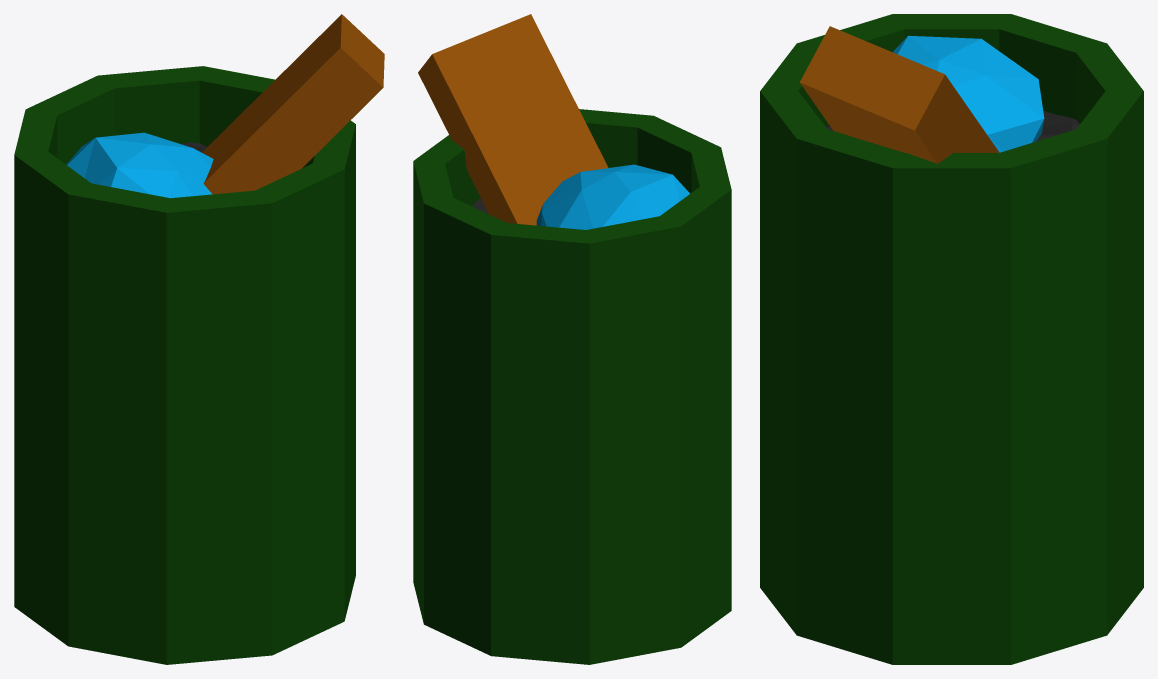
The model's file is GarbageCan.fbx.
3 views of the same model, side by side, from view 1: azimuth 30°, elevation 25°; view 2: azimuth 150°, elevation 25°; view 3: azimuth 270°, elevation 25° (orthographic). The views are drawn at different scales.
Visible parts, largest first — view 1: Can, Cube, Icosphere; view 2: Can, Cube, Icosphere; view 3: Can, Cube, Icosphere, Plane.
Part boxes in pixels (<box>): Can: <box>14,66,355,664</box>; Cube: <box>202,14,384,194</box>; Icosphere: <box>66,132,213,198</box>; Can: <box>413,109,731,664</box>; Cube: <box>418,14,608,225</box>; Icosphere: <box>536,164,689,229</box>; Can: <box>760,14,1143,664</box>; Cube: <box>799,26,999,163</box>; Icosphere: <box>893,35,1044,152</box>; Plane: <box>825,111,1079,141</box>.
Size of the model in its own units: 0.7329 by 0.6787 by 1.2.
